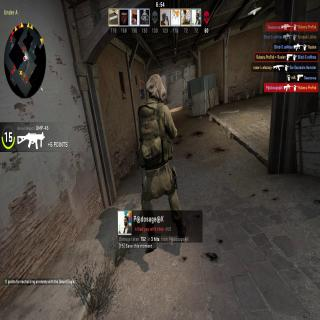CT-Body: (133, 67, 188, 220)
CT-Head: (145, 74, 166, 101)
